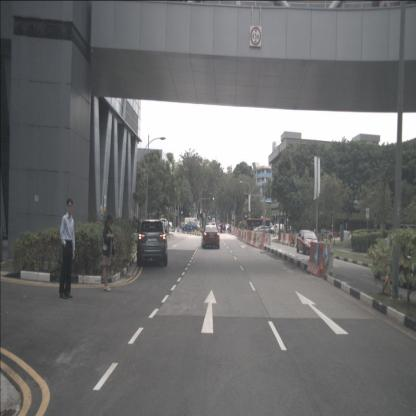barrier: (306, 240, 324, 278), (324, 241, 335, 276), (264, 233, 272, 246), (246, 230, 252, 245), (255, 232, 260, 249), (243, 230, 248, 244), (250, 230, 254, 246), (288, 233, 293, 245), (253, 231, 256, 248), (285, 233, 289, 245), (238, 228, 242, 240), (282, 234, 286, 244), (280, 233, 283, 244)
cone: (384, 264, 392, 297), (260, 234, 263, 250)
